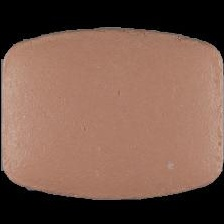68788-9549: (0, 0, 224, 224)
